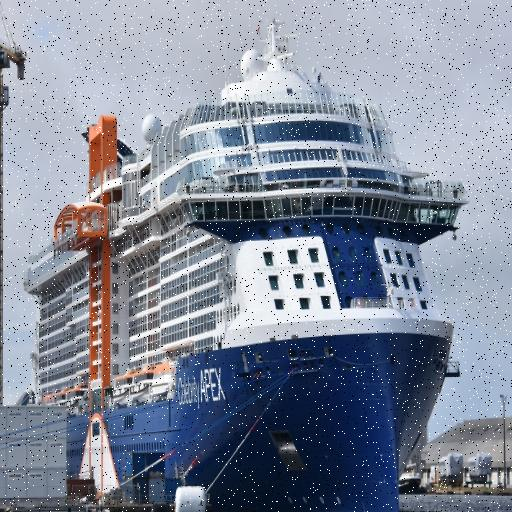cruises: (23, 16, 473, 512)
